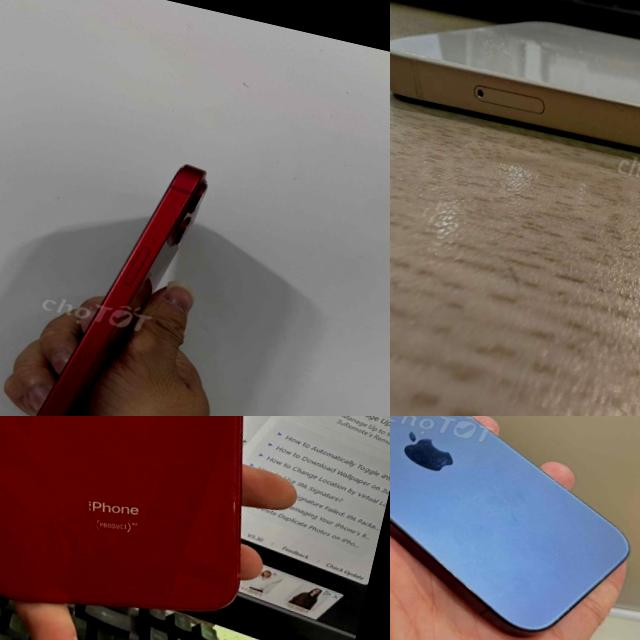gen_12_13: (12, 129, 237, 416), (390, 0, 640, 233)
gen_15: (390, 416, 640, 640)
gen_x_xs: (0, 416, 242, 610)
